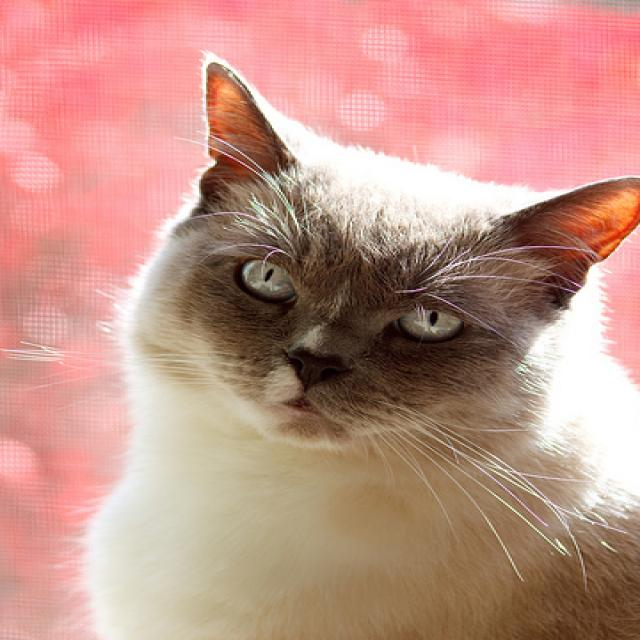Ragdoll: (71, 45, 640, 640)
